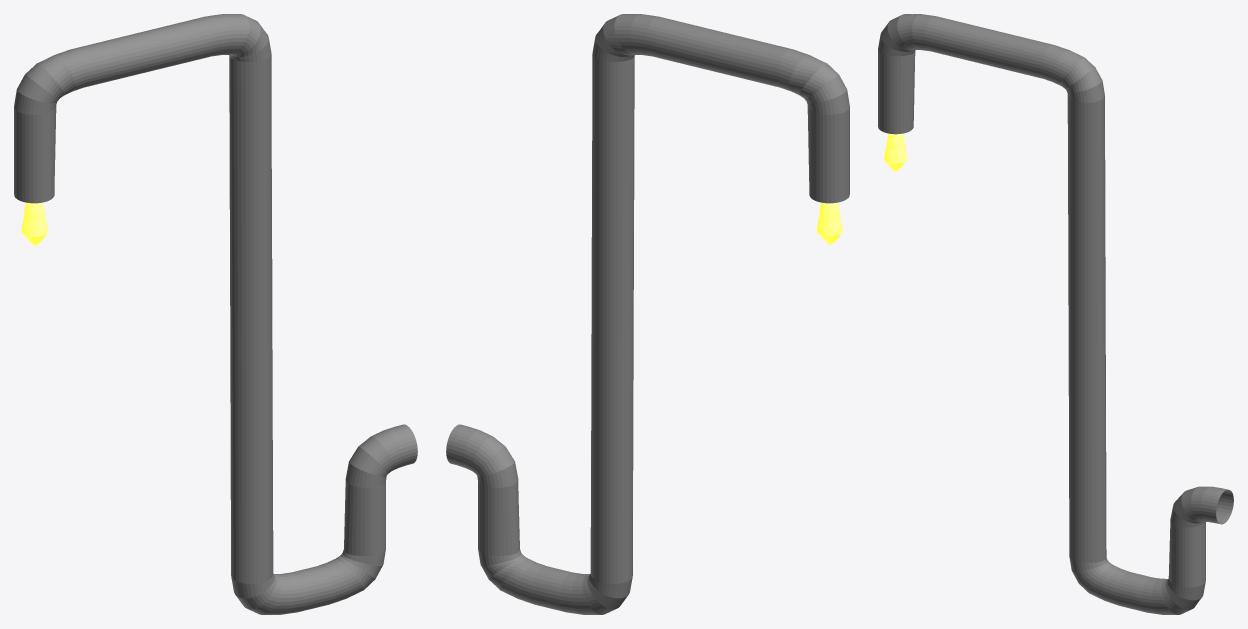
The model's file is LampeRestau.fbx.
3 views of the same model, side by side, from view 1: azimuth 30°, elevation 25°; view 2: azimuth 150°, elevation 25°; view 3: azimuth 330°, elevation 25° (orthographic). The views are drawn at different scales.
Parts seen in each view (by area): view 1: Lampe_restau; view 2: Lampe_restau; view 3: Lampe_restau.
Part boxes in pixels (left/top/right/bottom): Lampe_restau: left=14, top=14, right=417, bottom=614; Lampe_restau: left=446, top=14, right=849, bottom=614; Lampe_restau: left=878, top=14, right=1233, bottom=614.
Size of the model in its own units: 224 by 336 by 20.12.
